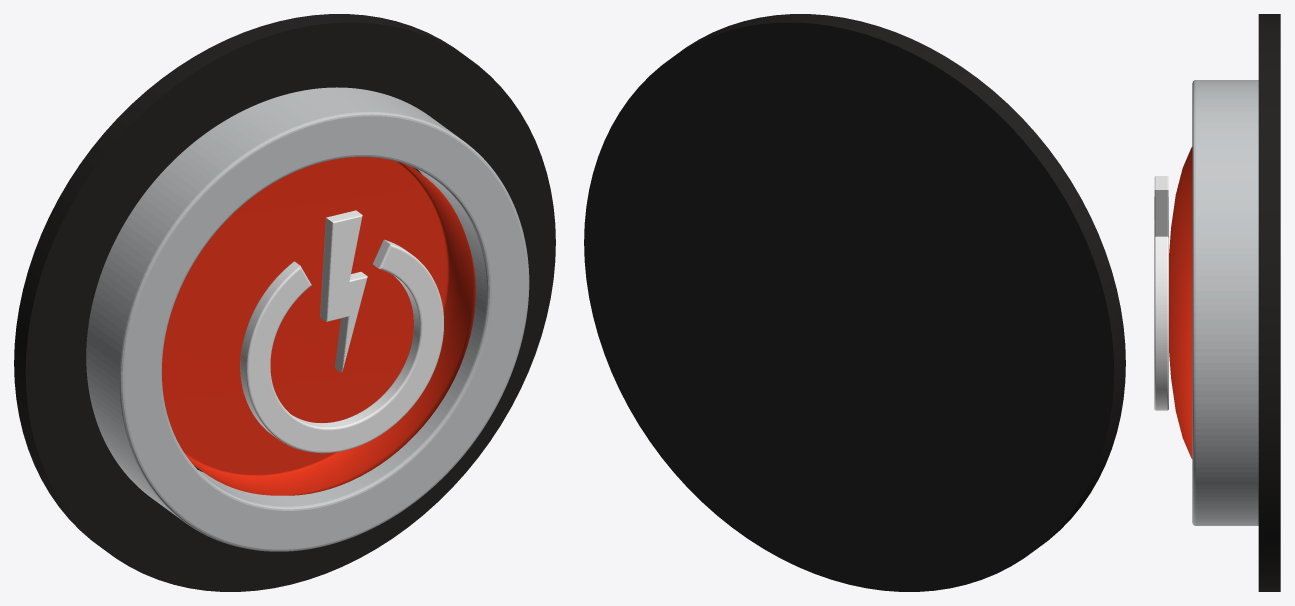
Rendered from always-on-Button.glb.
3 renders of one model, left to right at view 1: azimuth 30°, elevation 25°; view 2: azimuth 150°, elevation 25°; view 3: azimuth 270°, elevation 25°, orthographic. The views are drawn at different scales.
Parts seen in each view (by area): view 1: base_plate, bezel, button_cap, glyph_ring, glyph_bolt; view 2: base_plate; view 3: bezel, base_plate, button_cap, glyph_ring, glyph_bolt.
Part boxes in pixels (box(x1,y1,x2,y2)): base_plate: box(14, 14, 555, 591); bezel: box(86, 87, 529, 551); button_cap: box(162, 157, 475, 495); glyph_ring: box(240, 239, 443, 453); glyph_bolt: box(320, 210, 367, 372); base_plate: box(584, 14, 1125, 591); bezel: box(1192, 80, 1258, 525); base_plate: box(1258, 14, 1280, 591); button_cap: box(1169, 147, 1192, 458); glyph_ring: box(1154, 197, 1168, 410); glyph_bolt: box(1154, 176, 1168, 237).
Size of the model in its own units: 1.84 by 1.84 by 0.4025.
